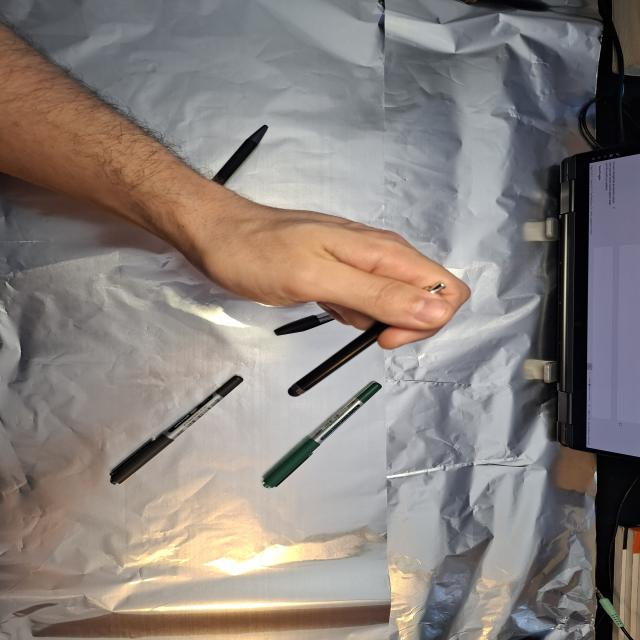glove_off: (170, 186, 475, 351)
